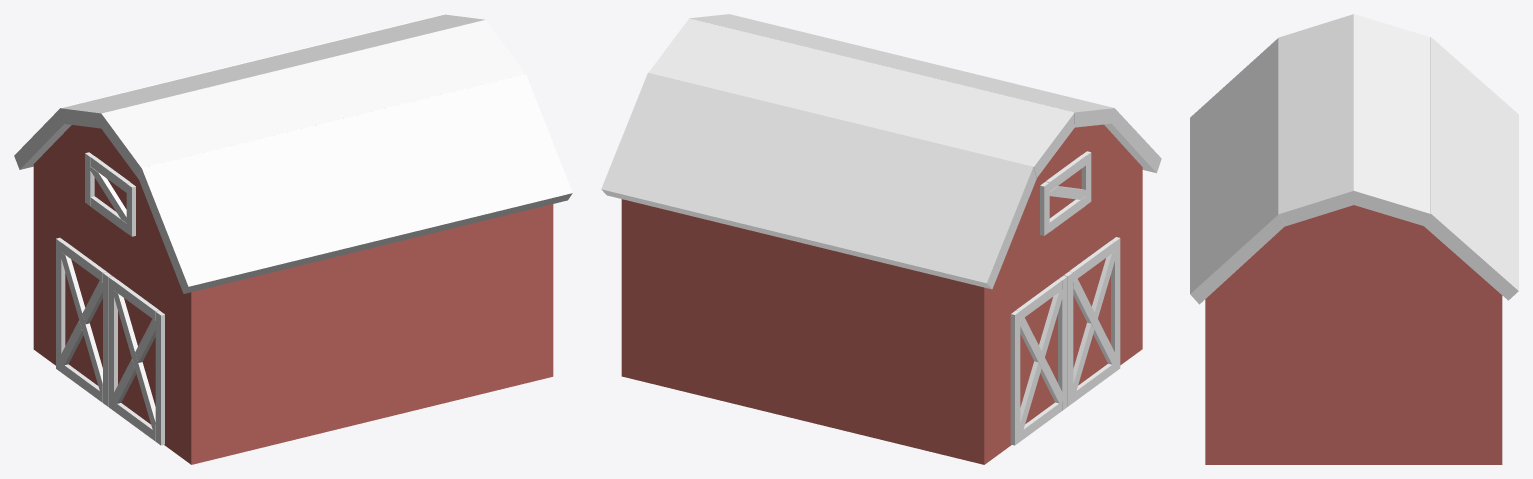
File: red_farm.glb
3 views of the same model, side by side, from view 1: azimuth 30°, elevation 25°; view 2: azimuth 150°, elevation 25°; view 3: azimuth 270°, elevation 25° (orthographic). The views are drawn at different scales.
Parts seen in each view (by area): view 1: Cube, Cube.023, Cube.022, Cube.021, Cube.020, Cube.013, Cube.006, Cube.009, Cube.014, Cube.001, Cube.004, Cube.005 (+3 smaller); view 2: Cube, Cube.020, Cube.021, Cube.022, Cube.001, Cube.023, Cube.013, Cube.004, Cube.009, Cube.006, Cube.014, Cube.012 (+7 smaller); view 3: Cube, Cube.020, Cube.023, Cube.021, Cube.022.
Boxes of the visible parts, x1,y1,x2,y2 form: Cube: (33,125,553,464); Cube.023: (139,74,572,293); Cube.022: (101,20,525,178); Cube.021: (60,14,485,128); Cube.020: (14,14,444,169); Cube.013: (155,310,164,445); Cube.006: (113,290,155,431); Cube.009: (61,252,102,393); Cube.014: (108,276,117,410); Cube.001: (56,237,65,372); Cube.004: (103,272,111,406); Cube.005: (61,241,106,281); Cube: (621,124,1142,464); Cube.020: (601,73,1036,289); Cube.021: (648,18,1074,177); Cube.022: (690,14,1114,127); Cube.001: (1010,310,1020,445); Cube.023: (1104,109,1161,173); Cube.013: (1111,237,1120,371); Cube.004: (1058,275,1067,410); Cube.009: (1020,317,1062,403); Cube.006: (1073,279,1115,364); Cube.014: (1064,271,1073,406); Cube.012: (1020,361,1041,431); Cube: (1205,205,1502,464); Cube.020: (1420,37,1518,300); Cube.023: (1190,38,1286,304); Cube.021: (1350,14,1430,225); Cube.022: (1278,14,1353,226).
Size of the model in its own units: 8.43 by 6.21 by 6.62.
